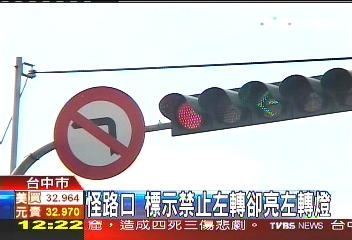No_left_turn: (53, 86, 144, 181)
